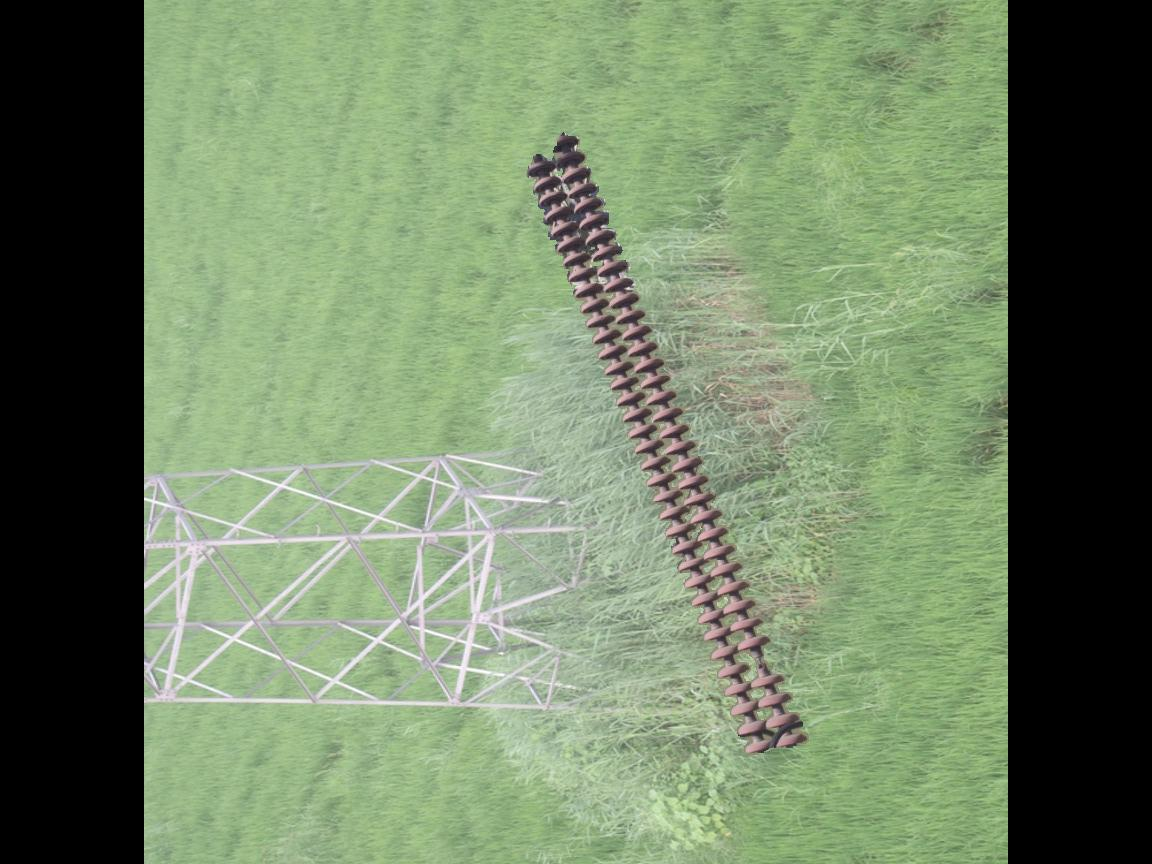insulator: (524, 130, 815, 759)
insulator_stringdrop: (736, 632, 787, 692)
